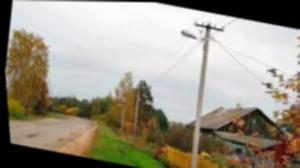Animal: (150, 15, 238, 168), (124, 81, 146, 136)
